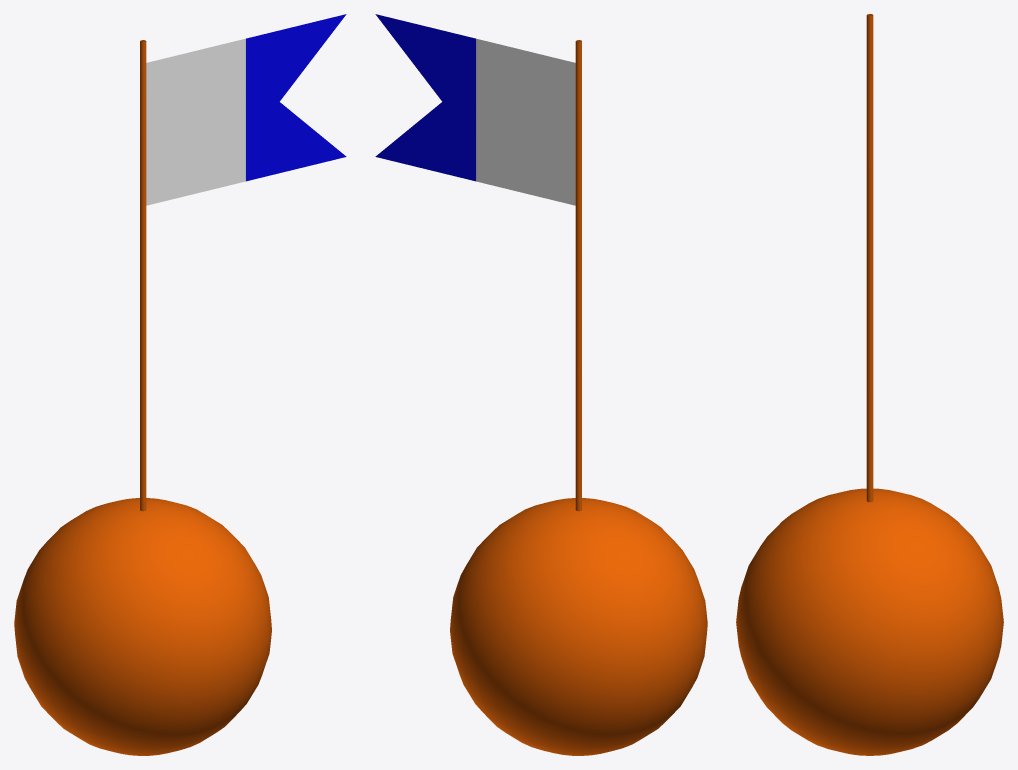
The model's file is flagab.glb.
The picture shows the model from 3 angles, left to right: view 1: azimuth 30°, elevation 25°; view 2: azimuth 150°, elevation 25°; view 3: azimuth 270°, elevation 25°; orthographic projection. The views are drawn at different scales.
Parts seen in each view (by area): view 1: Sphere, Plane.001, Cylinder; view 2: Sphere, Plane.001, Cylinder; view 3: Sphere, Cylinder.
Part boxes in pixels (x1,y1,x2,y2): Sphere: (14, 498, 271, 755); Plane.001: (146, 14, 346, 205); Cylinder: (140, 40, 146, 511); Sphere: (450, 498, 707, 755); Plane.001: (375, 14, 575, 205); Cylinder: (575, 40, 581, 511); Sphere: (736, 488, 1003, 755); Cylinder: (866, 14, 873, 502).
Size of the model in its own units: 1.41 by 3 by 1.
3 materials, 1 textured.
